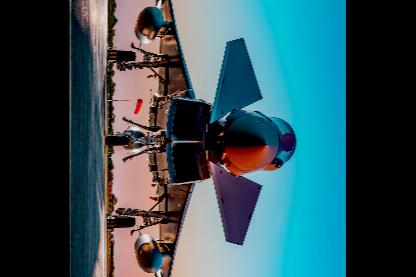E2: (106, 0, 297, 275)
